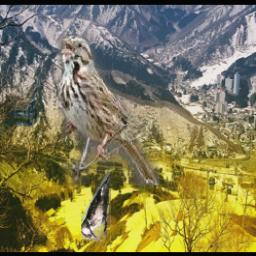Sparrow: (57, 35, 158, 186)
Woodpecker: (80, 170, 110, 242)
